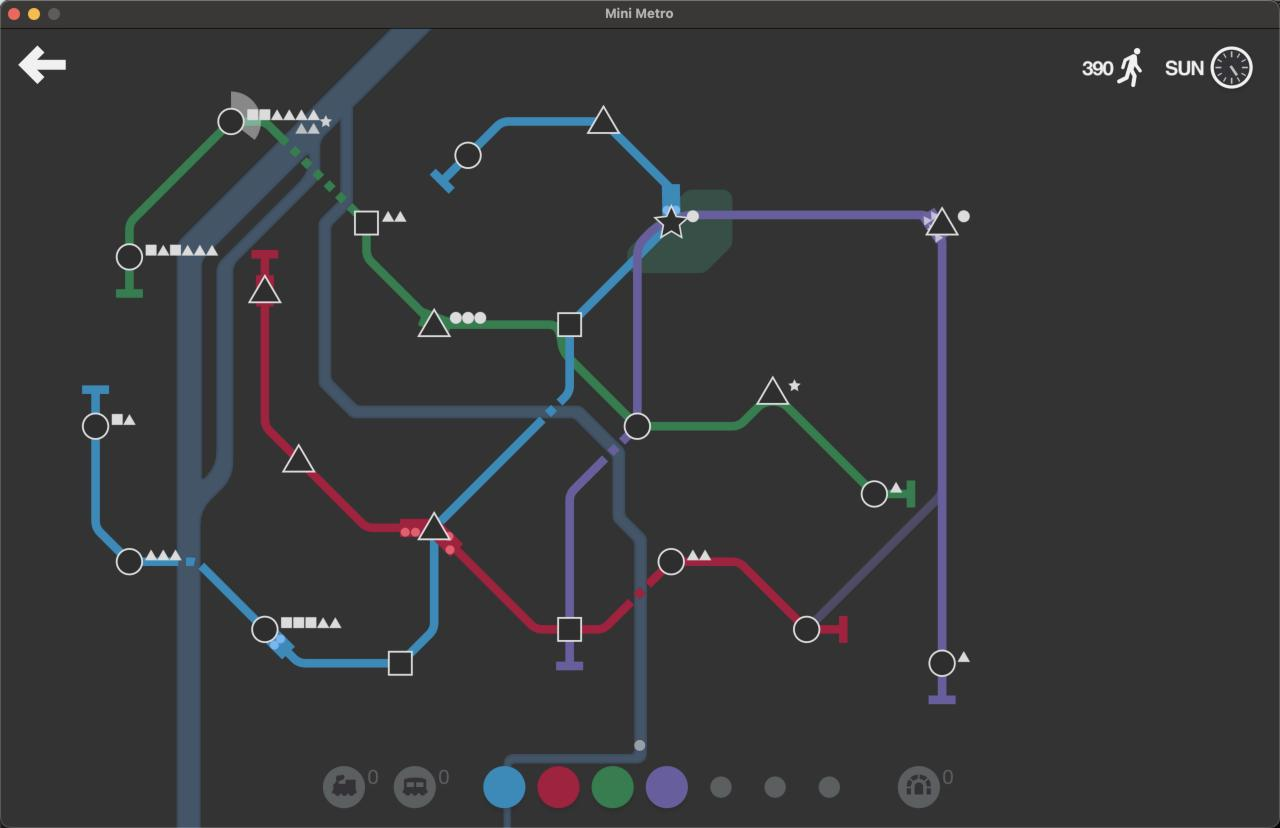CIRCLE: (928, 648, 957, 678), (250, 614, 279, 644), (623, 411, 652, 441), (115, 242, 144, 271), (217, 107, 245, 137), (793, 615, 821, 644), (860, 479, 888, 508), (116, 547, 144, 576), (657, 547, 685, 576), (81, 412, 110, 440), (454, 140, 482, 169)
SQUARE: (557, 615, 583, 643), (353, 209, 379, 236), (387, 649, 413, 676), (556, 310, 583, 336)
TRIANGLE: (923, 205, 959, 240), (247, 273, 282, 306), (417, 510, 453, 541), (282, 442, 316, 474), (755, 376, 790, 407), (416, 307, 451, 338), (587, 104, 620, 135)
